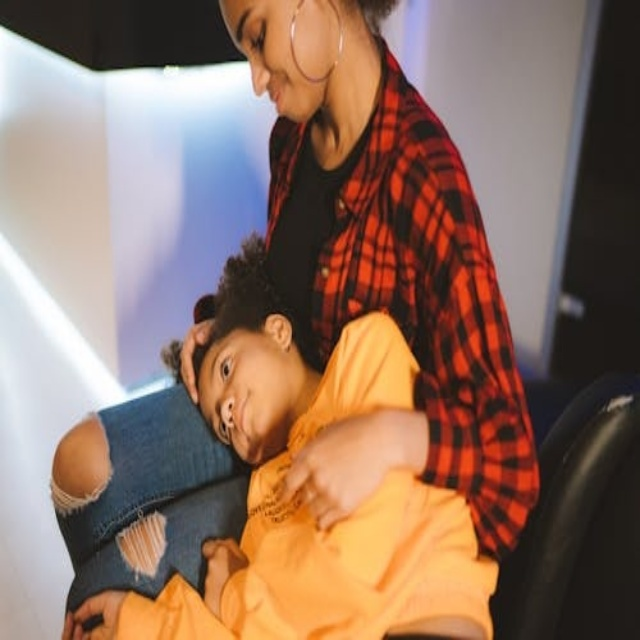Sin_gafas: (216, 2, 276, 69), (207, 335, 238, 452)
Sin_guantes: (276, 409, 420, 530), (201, 535, 249, 618), (65, 588, 128, 640)
Sin_mascara: (252, 56, 297, 132), (229, 374, 260, 452)
